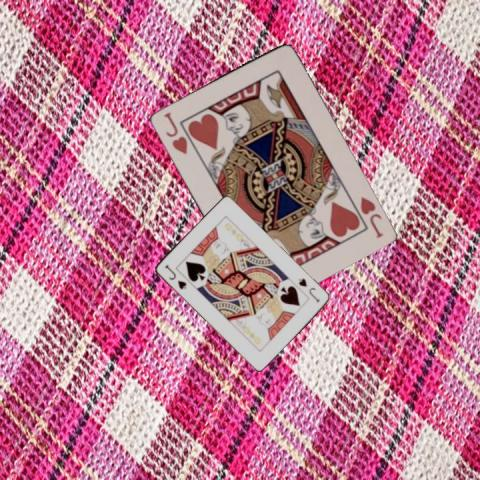Jh: (160, 109, 189, 156), (356, 194, 384, 240)
Js: (161, 261, 188, 291), (296, 275, 322, 304)
